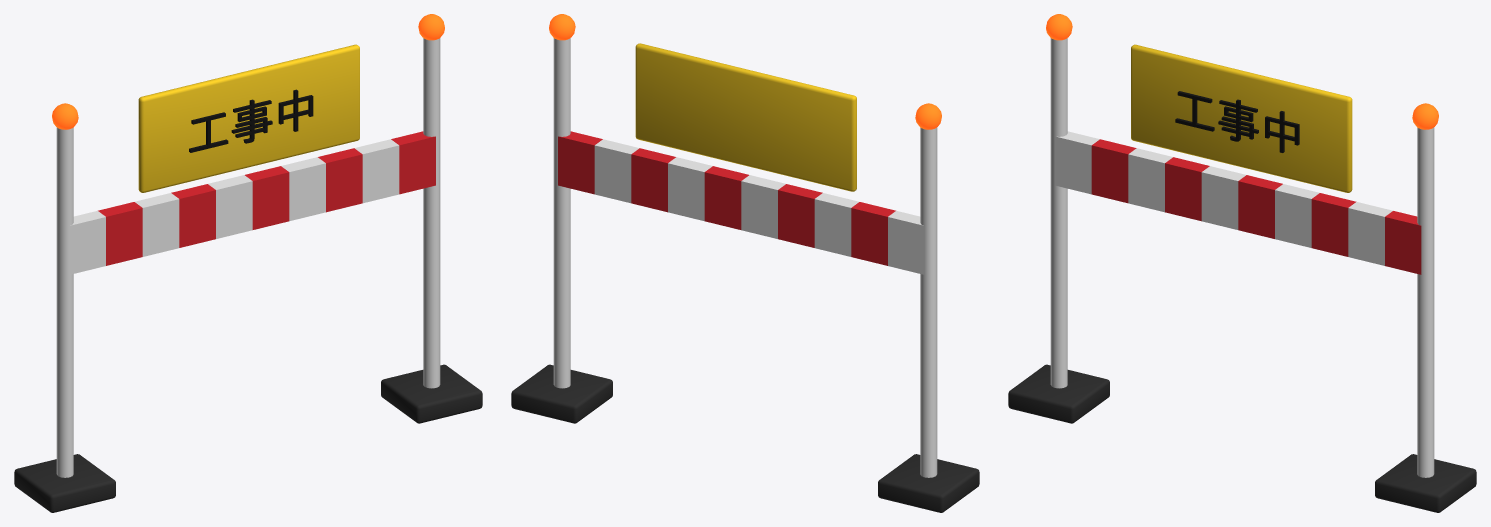
Rendered from kouji.glb.
The picture shows the model from 3 angles, left to right: view 1: azimuth 30°, elevation 25°; view 2: azimuth 150°, elevation 25°; view 3: azimuth 330°, elevation 25°; orthographic projection.
Parts seen in each view (by area): view 1: kouji_body, kouji_lamp_mesh_l, kouji_lamp_mesh_r; view 2: kouji_body, kouji_lamp_mesh_l, kouji_lamp_mesh_r; view 3: kouji_body, kouji_lamp_mesh_r, kouji_lamp_mesh_l.
Part boxes in pixels (<box>): kouji_body: <box>14,38,482,512</box>; kouji_lamp_mesh_l: <box>418,14,444,40</box>; kouji_lamp_mesh_r: <box>52,103,78,129</box>; kouji_body: <box>511,38,979,512</box>; kouji_lamp_mesh_l: <box>549,14,575,40</box>; kouji_lamp_mesh_r: <box>915,103,941,129</box>; kouji_body: <box>1008,38,1476,512</box>; kouji_lamp_mesh_r: <box>1046,14,1072,40</box>; kouji_lamp_mesh_l: <box>1412,103,1438,129</box>.
Bounding box in the file's own units: 2.95 × 2.53 × 0.45.
